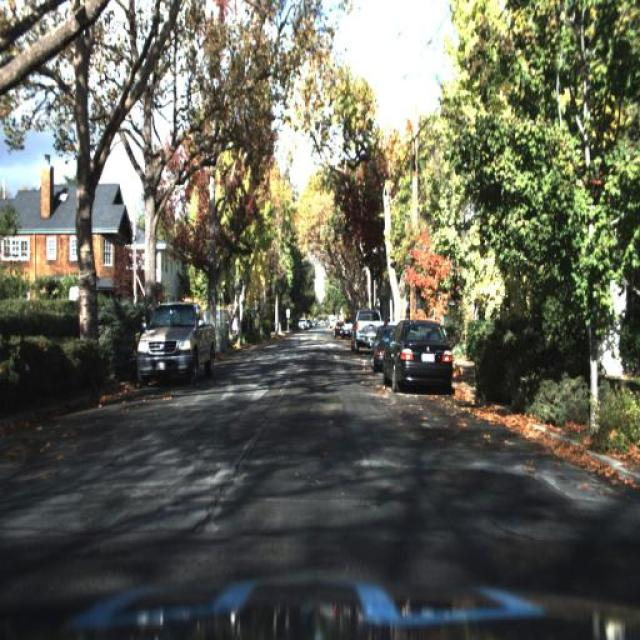car: (139, 296, 210, 390), (382, 316, 453, 392), (346, 302, 383, 357), (352, 309, 373, 356), (372, 323, 388, 378), (335, 318, 346, 339)
